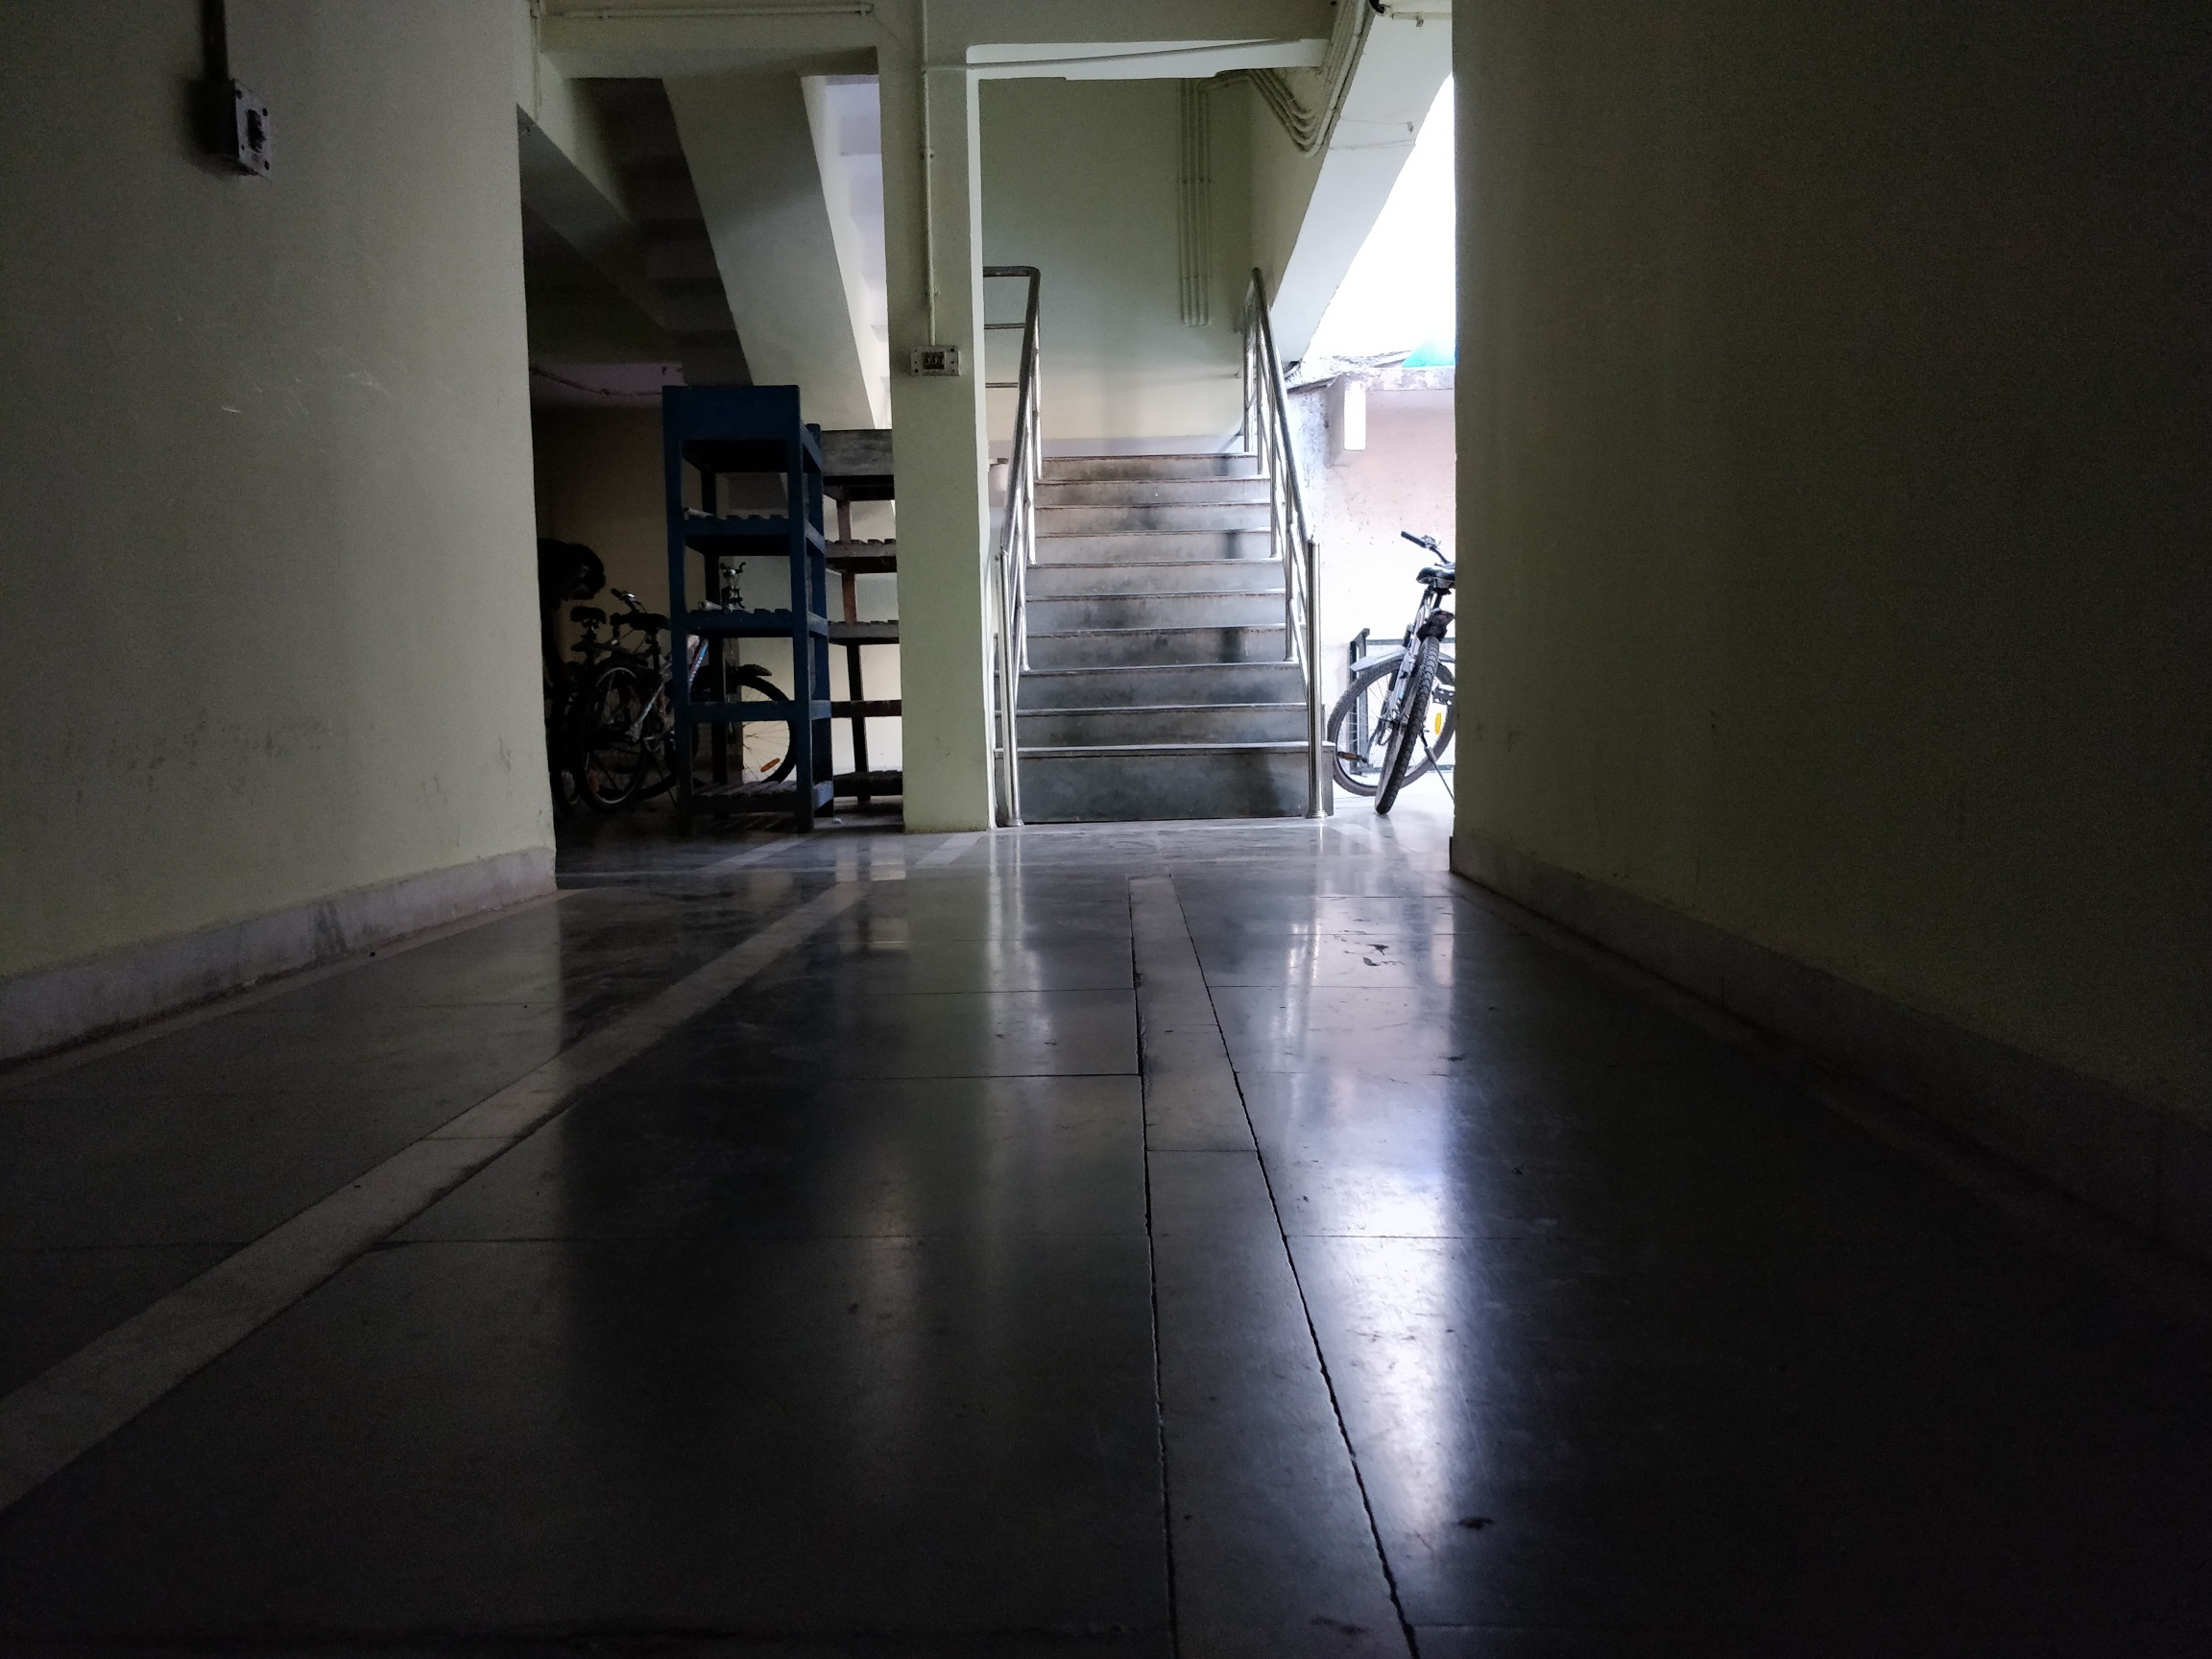stairs_up: (1010, 451, 1313, 802)
